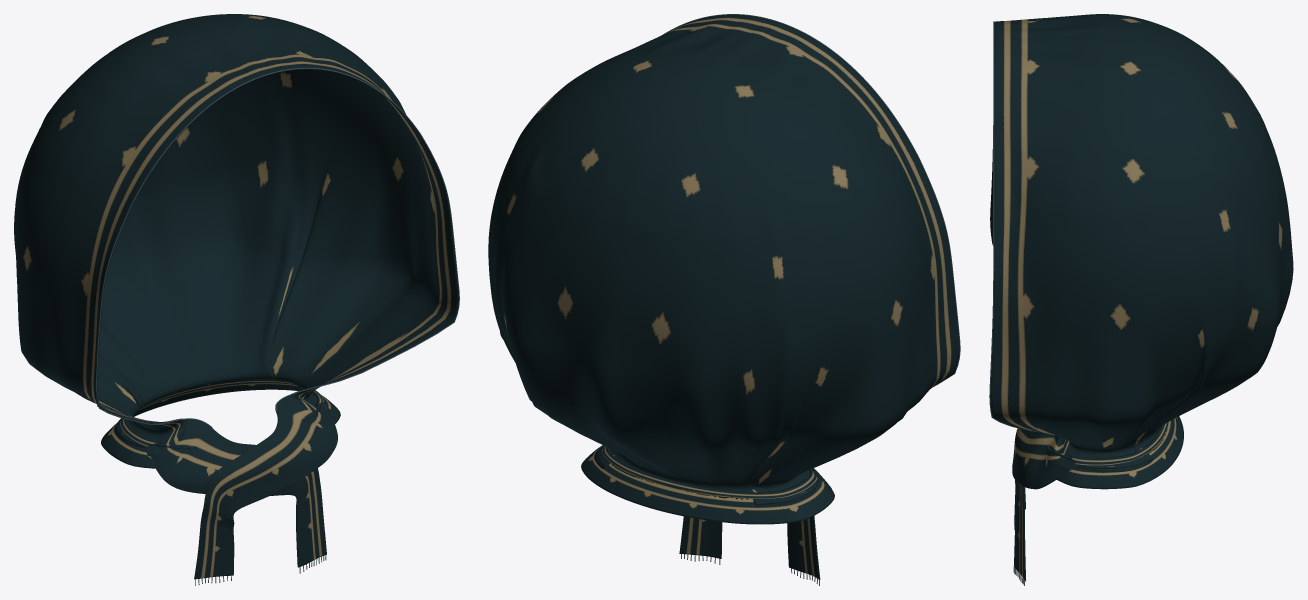
The model's file is Masculine-buttonup-pashmina239-headgear.glb.
3 renders of one model, left to right at view 1: azimuth 30°, elevation 25°; view 2: azimuth 150°, elevation 25°; view 3: azimuth 270°, elevation 25°, orthographic. The views are drawn at different scales.
Parts seen in each view (by area): view 1: 226 headgear / Headwear / continuous woven pashmina239, 226 headgear / Headwear / face edge239; view 2: 226 headgear / Headwear / continuous woven pashmina239, 226 headgear / Headwear / face edge239; view 3: 226 headgear / Headwear / continuous woven pashmina239, 226 headgear / Headwear / face edge239.
Part boxes in pixels (bbox=[...]): 226 headgear / Headwear / continuous woven pashmina239: bbox=[14, 14, 458, 579]; 226 headgear / Headwear / face edge239: bbox=[96, 68, 459, 427]; 226 headgear / Headwear / continuous woven pashmina239: bbox=[488, 14, 959, 579]; 226 headgear / Headwear / face edge239: bbox=[663, 14, 960, 387]; 226 headgear / Headwear / continuous woven pashmina239: bbox=[990, 14, 1293, 581]; 226 headgear / Headwear / face edge239: bbox=[989, 21, 1038, 431].
Size of the model in its own units: 1.03 by 1.35 by 0.7127.
3 materials, 1 textured.
